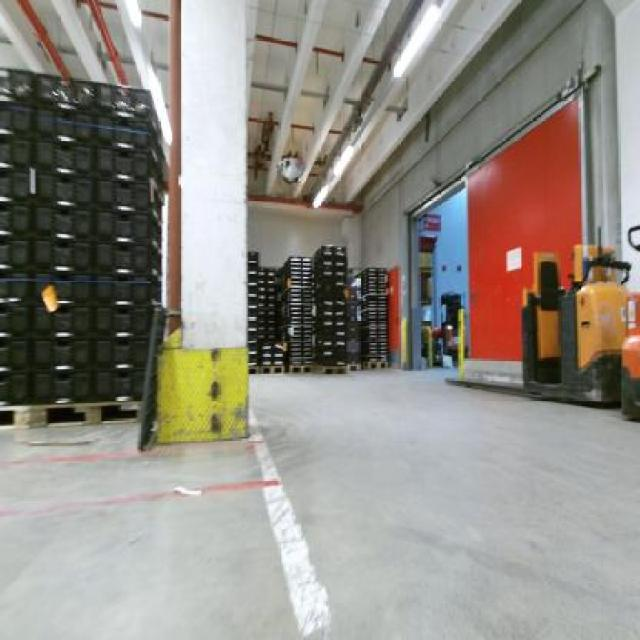ground: (0, 367, 638, 638)
pallet: (31, 397, 144, 433), (0, 405, 33, 433), (248, 365, 288, 376), (288, 363, 316, 376), (365, 359, 391, 372), (320, 365, 348, 376), (349, 362, 360, 374)
